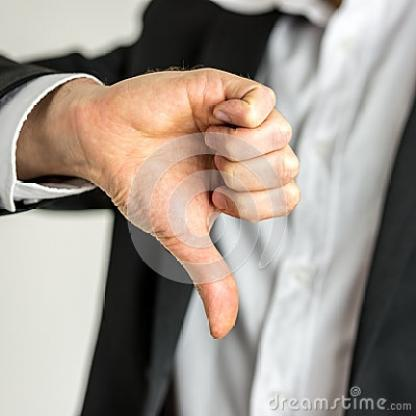Thumbs-Down: (41, 40, 350, 350)
